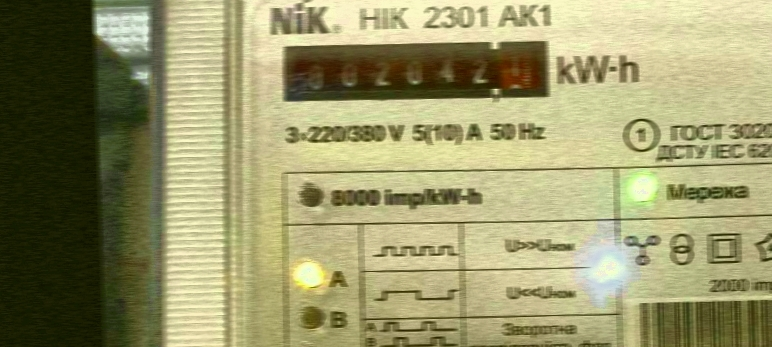0: (305, 61, 324, 91), (404, 57, 423, 87), (339, 59, 357, 90)
1: (506, 48, 521, 80)
2: (372, 59, 391, 88), (470, 55, 488, 85)
4: (437, 54, 456, 86)
screen: (278, 33, 554, 114)
